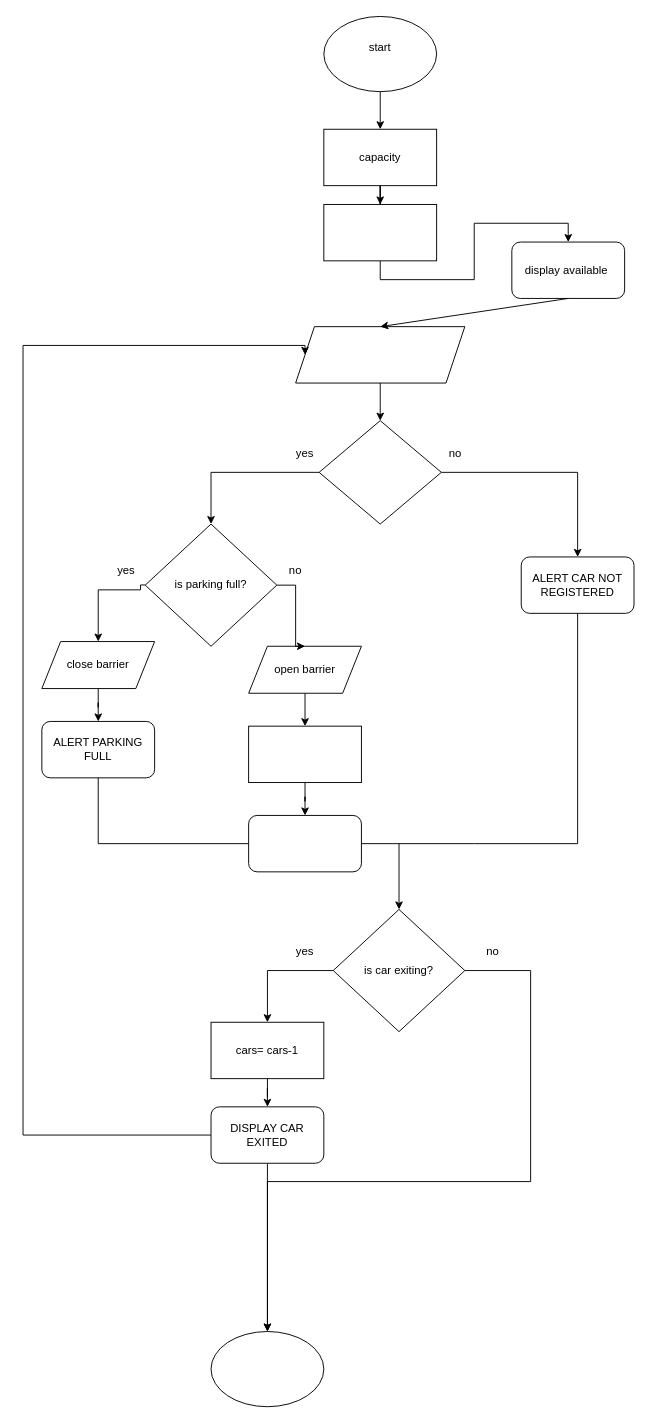
Image size: 650x1423. Some labels were removed from this diagram. Each missing label, with the box of its shape:
current cars: (323, 204, 437, 261)
current cars+1: (248, 725, 361, 783)
detect car entry: (295, 326, 465, 383)
DISPLAY ENTRY ALLOWED: (248, 815, 361, 872)
END: (210, 1331, 324, 1407)
is car registered?: (318, 420, 441, 524)
